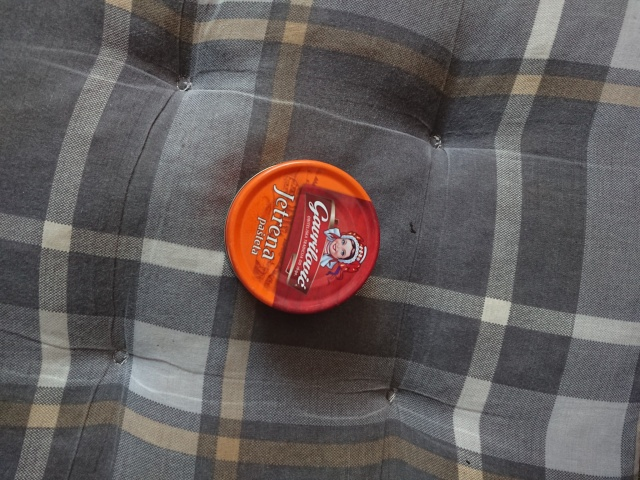Gavrilovic Pork Liver Pate 100g: (220, 156, 385, 320)
